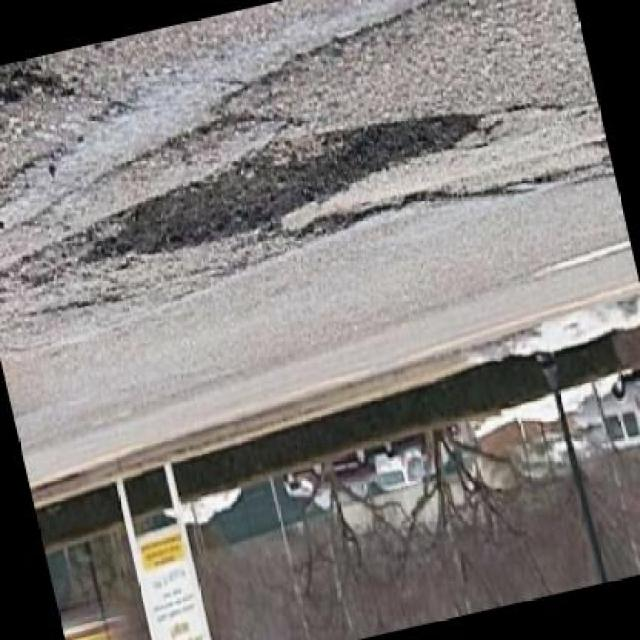pothole1: (85, 97, 492, 268), (0, 56, 66, 130)
